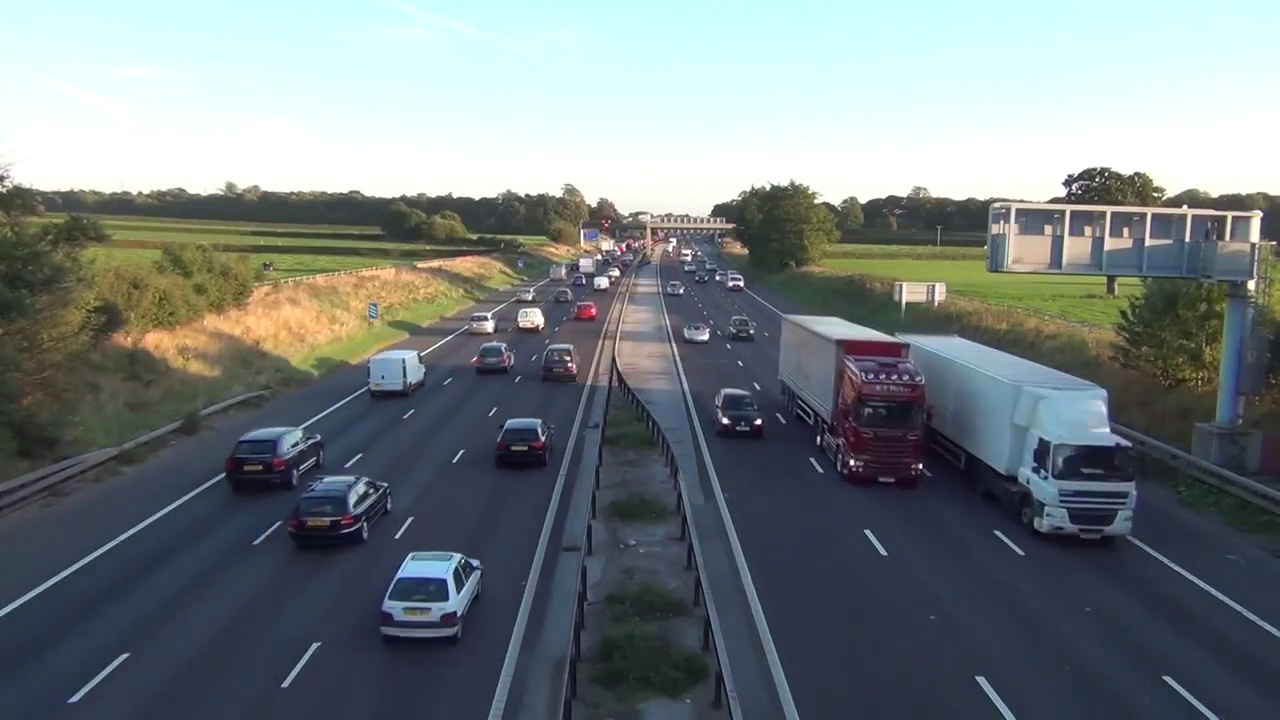bus: (380, 552, 483, 643), (288, 477, 392, 544), (225, 427, 323, 487), (495, 416, 554, 468), (714, 388, 763, 437), (542, 343, 579, 381), (473, 343, 514, 372), (466, 311, 496, 334), (729, 316, 754, 342), (683, 323, 710, 343), (573, 301, 598, 320), (514, 288, 538, 303), (664, 281, 686, 296), (553, 288, 573, 303)
car: (896, 332, 1136, 539), (779, 315, 930, 487)
lorry: (367, 351, 425, 397), (517, 307, 545, 332), (727, 271, 745, 291), (594, 276, 609, 292)
